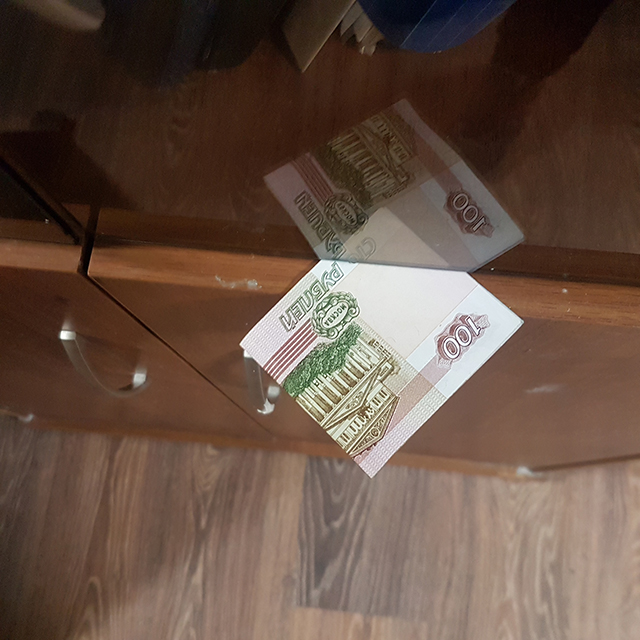banknotes: (241, 260, 524, 479), (262, 100, 527, 260)
